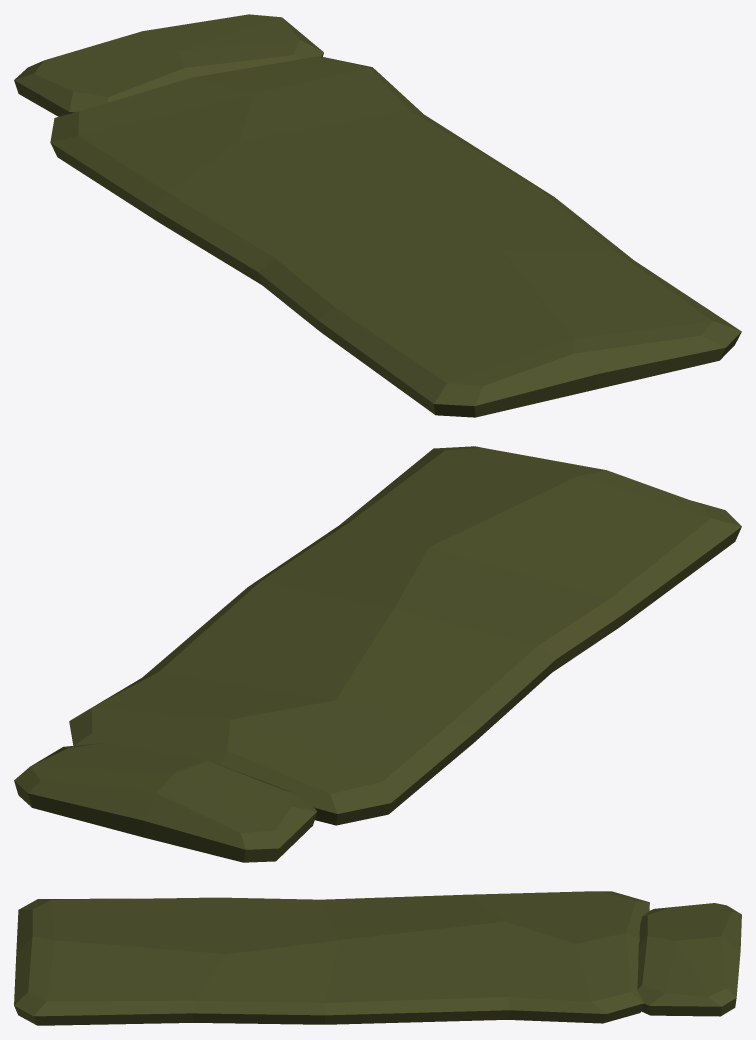
File: SM_Prop_Bed_SleepingBag_01.glb
3 renders of one model, top to bottom at view 1: azimuth 30°, elevation 25°; view 2: azimuth 150°, elevation 25°; view 3: azimuth 270°, elevation 25°, orthographic. The views are drawn at different scales.
Parts seen in each view (by area): view 1: SM_Prop_Bed_SleepingBag_01; view 2: SM_Prop_Bed_SleepingBag_01; view 3: SM_Prop_Bed_SleepingBag_01.
Part boxes in pixels (x1,y1,x2,y2): SM_Prop_Bed_SleepingBag_01: (14, 14, 741, 417); SM_Prop_Bed_SleepingBag_01: (14, 446, 741, 862); SM_Prop_Bed_SleepingBag_01: (14, 891, 741, 1025).
Bounding box in the file's own units: 0.9104 × 0.0951 × 2.24.
1 material, 1 textured.
